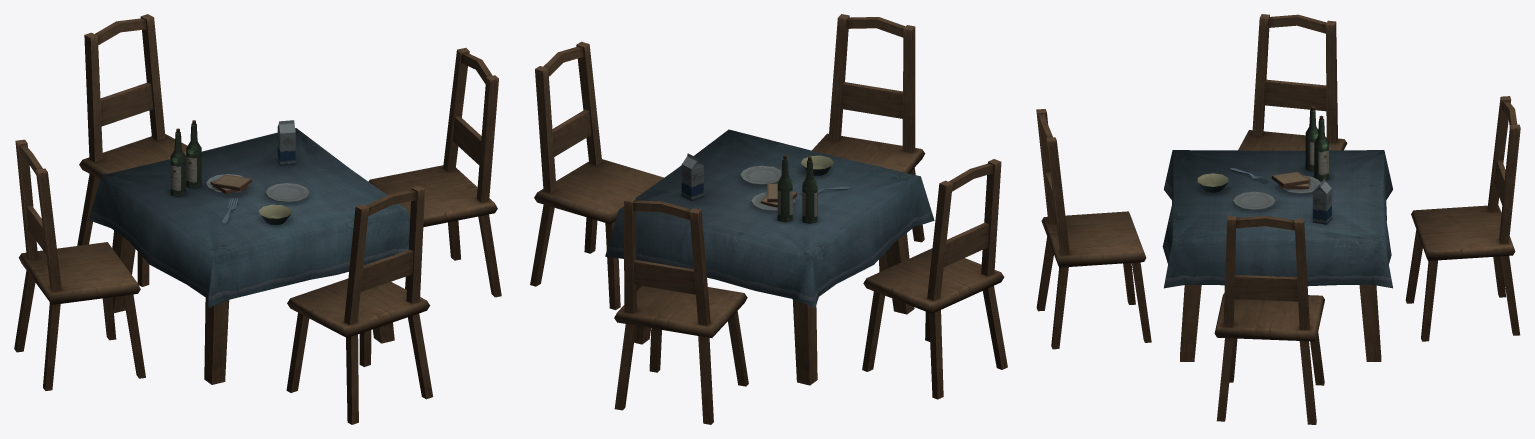
File: DiningTable.FBX
3 views of the same model, side by side, from view 1: azimuth 30°, elevation 25°; view 2: azimuth 150°, elevation 25°; view 3: azimuth 270°, elevation 25° (orthographic). The views are drawn at different scales.
Visible parts, largest first — view 1: DiningTable; view 2: DiningTable; view 3: DiningTable.
Boxes of the visible parts, bbox=[...] form: DiningTable: bbox=[14, 14, 501, 424]; DiningTable: bbox=[530, 14, 1007, 424]; DiningTable: bbox=[1036, 14, 1520, 424].
Bounding box in the file's own units: 3.52 × 1.62 × 3.44.
1 material, 1 textured.
